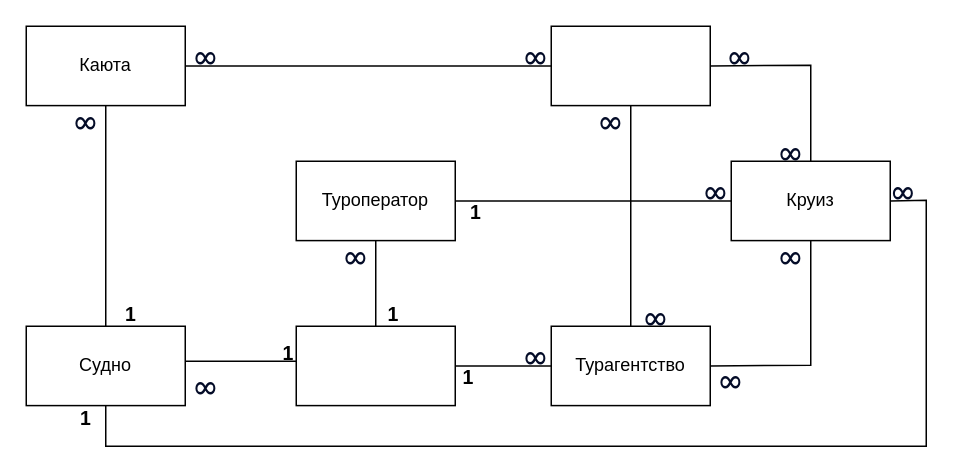
The diagram is 954 pixels wide and 474 high, and some of its shapes have lost their labels. The shapes that lost their labels are listed below. From the top down, each one's centre as x and y in pixels, then its label:
At [630,65]: "Клиент".
At [375,365]: "Турфирма".
